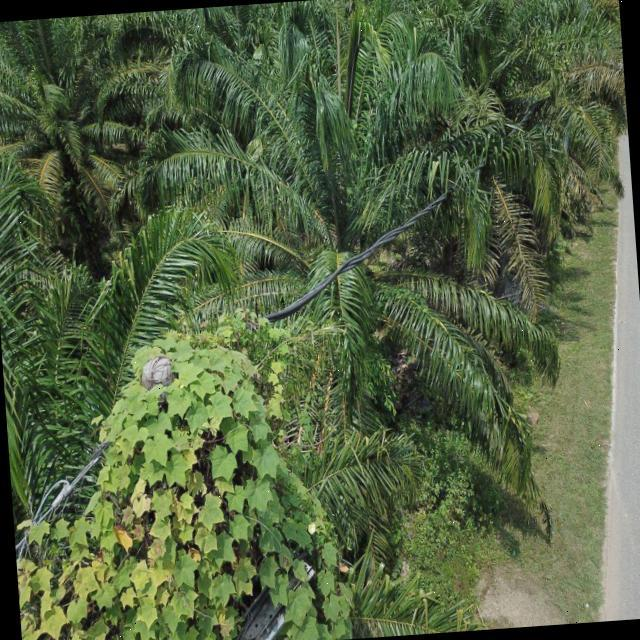critical vegetation: (20, 307, 342, 640)
